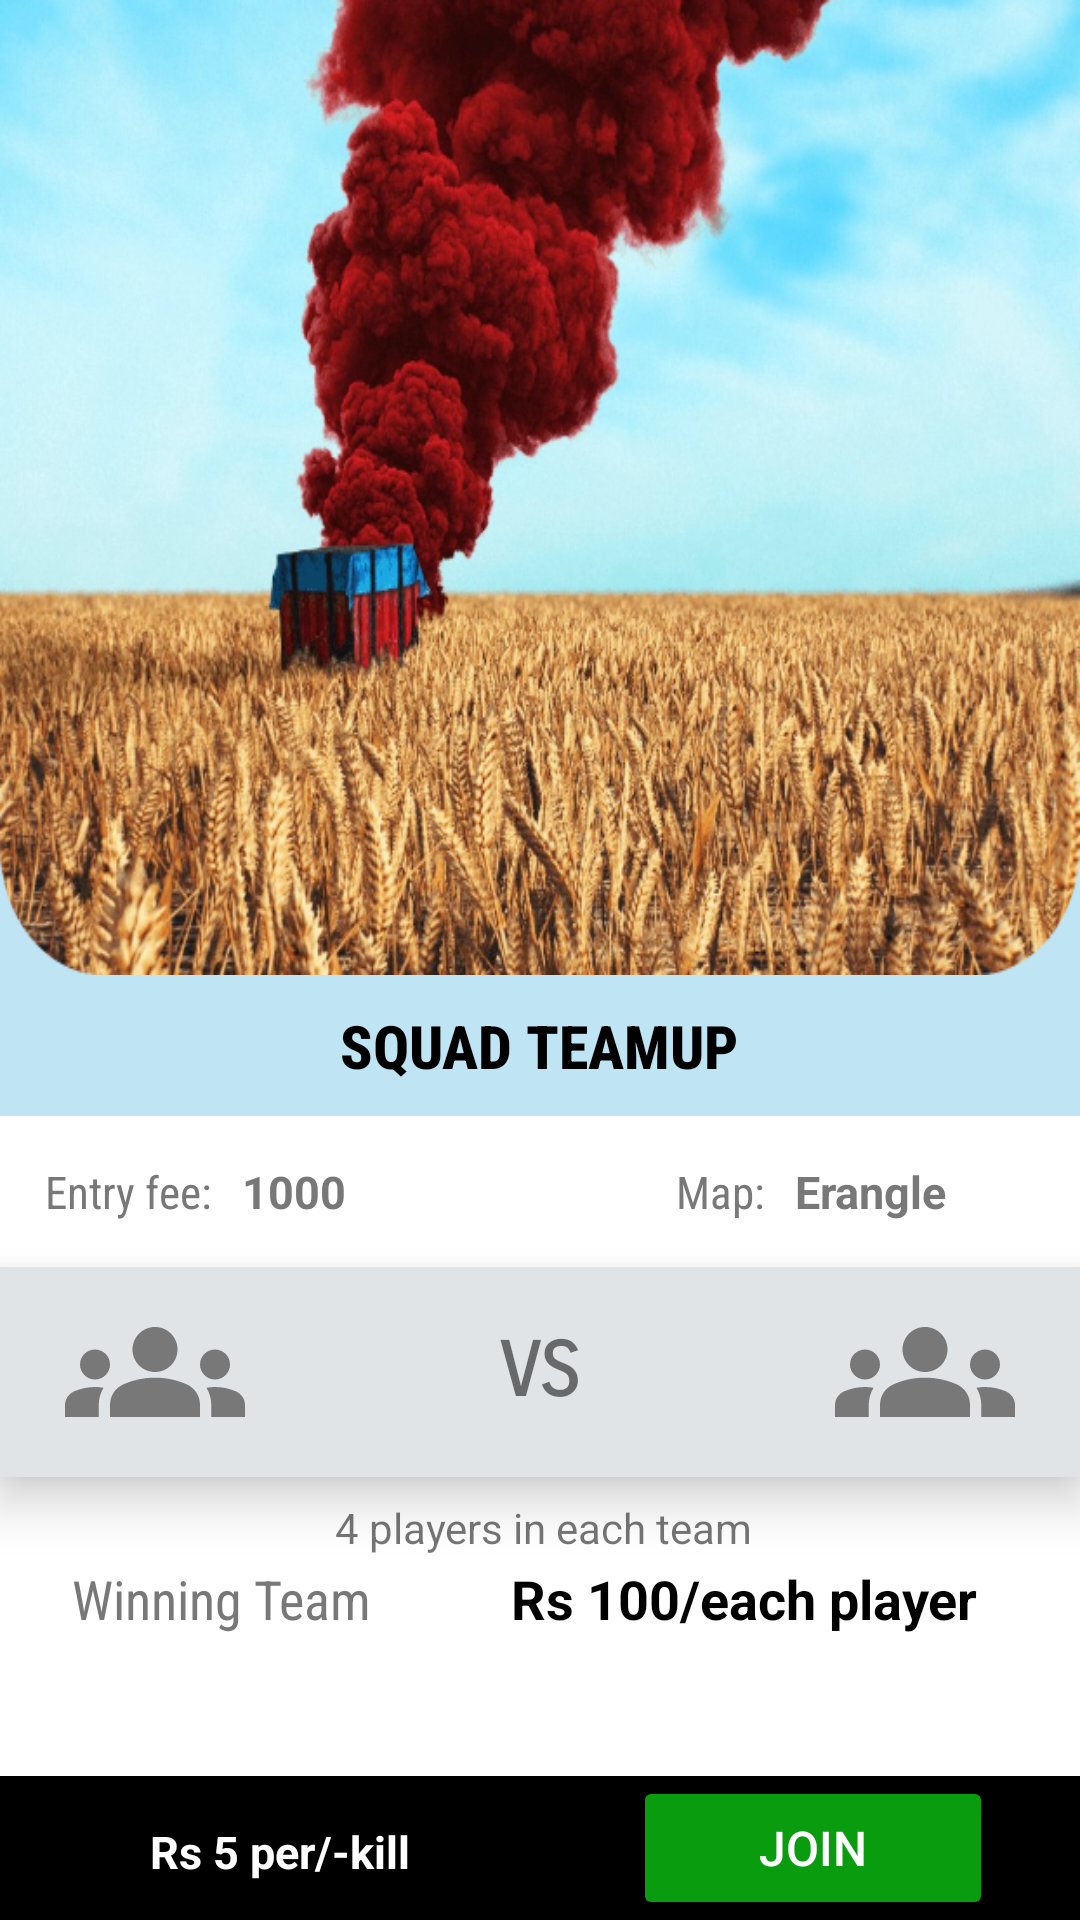

Screen size 1080w x 1920h. Icon name, then its box in pixels as (x1, y1, x2, y2):
groups: (65, 1327, 245, 1417), (835, 1327, 1015, 1417)
